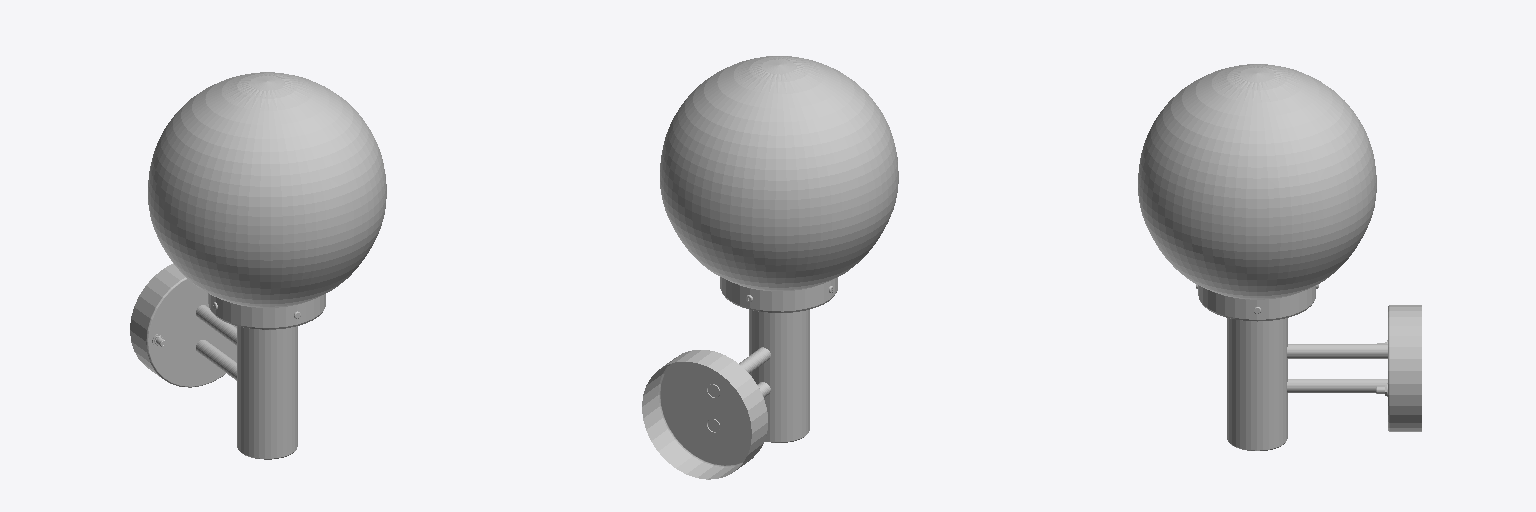
Rendered from lampara.obj.
3 renders of one model, left to right at view 1: azimuth 30°, elevation 25°; view 2: azimuth 150°, elevation 25°; view 3: azimuth 270°, elevation 25°, orthographic.
Visible parts, largest first — view 1: sconce_02; view 2: sconce_02; view 3: sconce_02.
Boxes of the visible parts, <box> form: sconce_02: <box>130,72,386,459</box>; sconce_02: <box>642,56,898,479</box>; sconce_02: <box>1138,64,1421,450</box>.
Bounding box in the file's own units: 0.0741 × 0.125 × 0.0881.